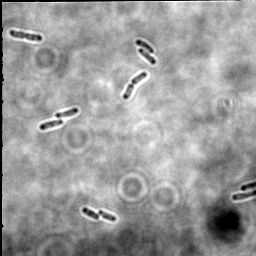Dividing: (121, 71, 149, 101), (8, 28, 44, 43)
Rod: (38, 117, 64, 132), (137, 47, 157, 65), (231, 189, 255, 204), (55, 106, 80, 120), (135, 38, 155, 54), (81, 205, 100, 221), (98, 208, 118, 223)
